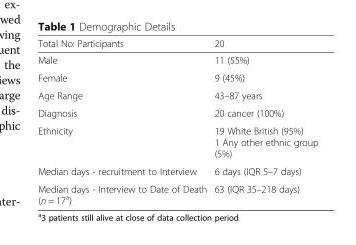table: (37, 37, 317, 205)
table column: (37, 37, 209, 205), (209, 37, 317, 205)
table column header: (37, 37, 317, 51)
table row: (37, 121, 317, 162), (37, 179, 317, 205), (37, 68, 317, 86), (37, 103, 317, 121), (37, 51, 317, 68), (37, 86, 317, 103), (37, 162, 317, 179), (37, 37, 317, 51)
